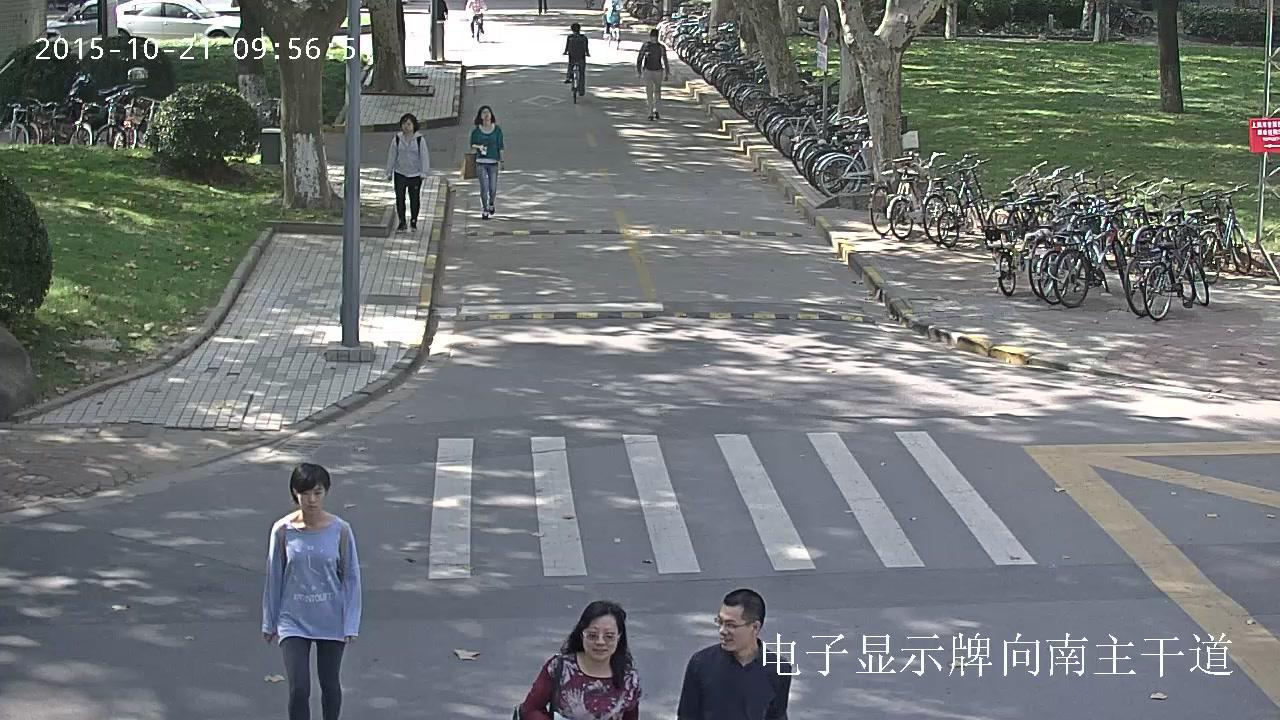person: (260, 462, 362, 720), (512, 600, 642, 720), (677, 588, 791, 720), (385, 113, 429, 233), (469, 105, 504, 219), (636, 29, 669, 121), (562, 22, 589, 103), (563, 22, 589, 96), (600, 0, 623, 50), (428, 0, 448, 51), (600, 0, 623, 42), (465, 0, 487, 41), (465, 0, 486, 37)
